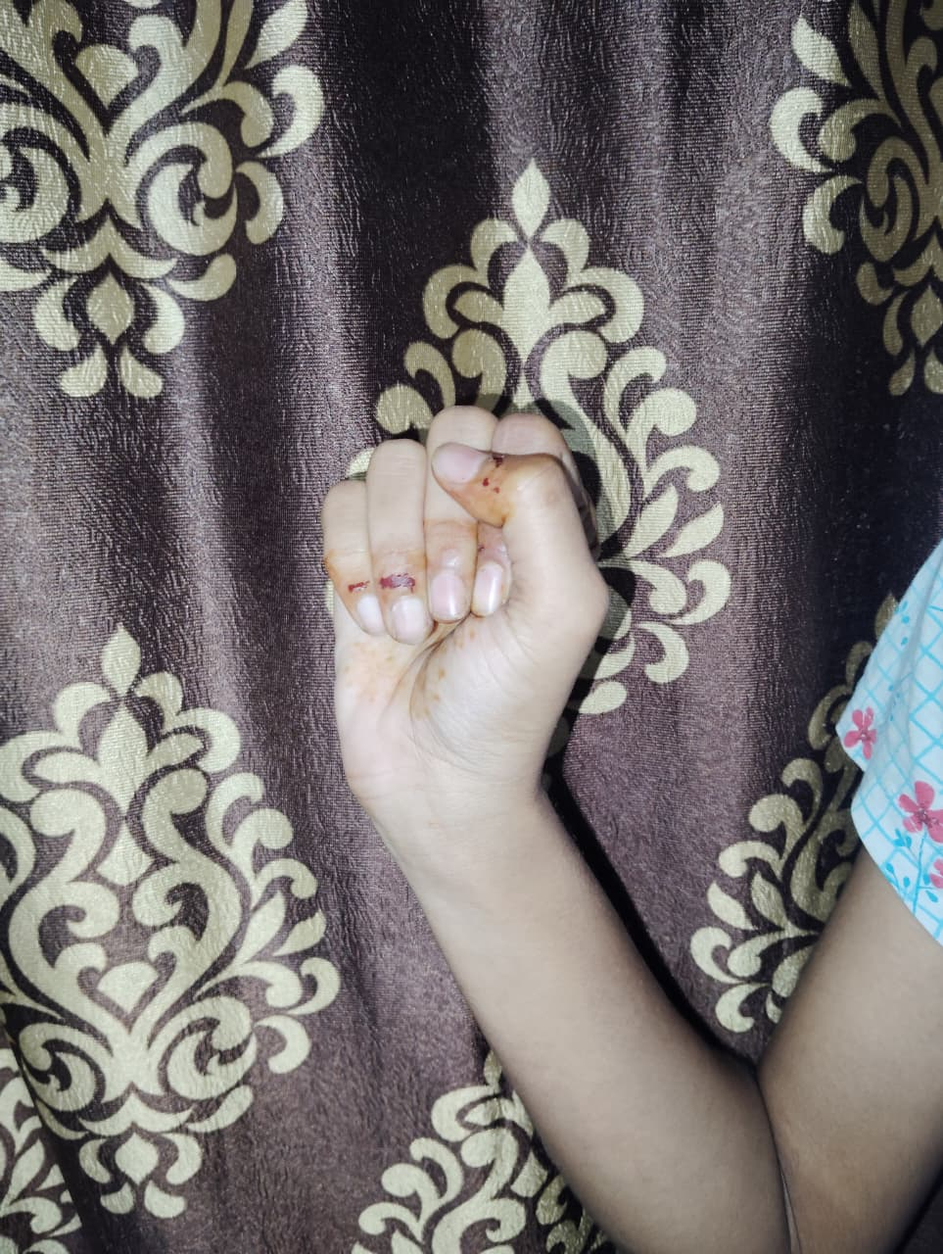S: (321, 406, 611, 806)
